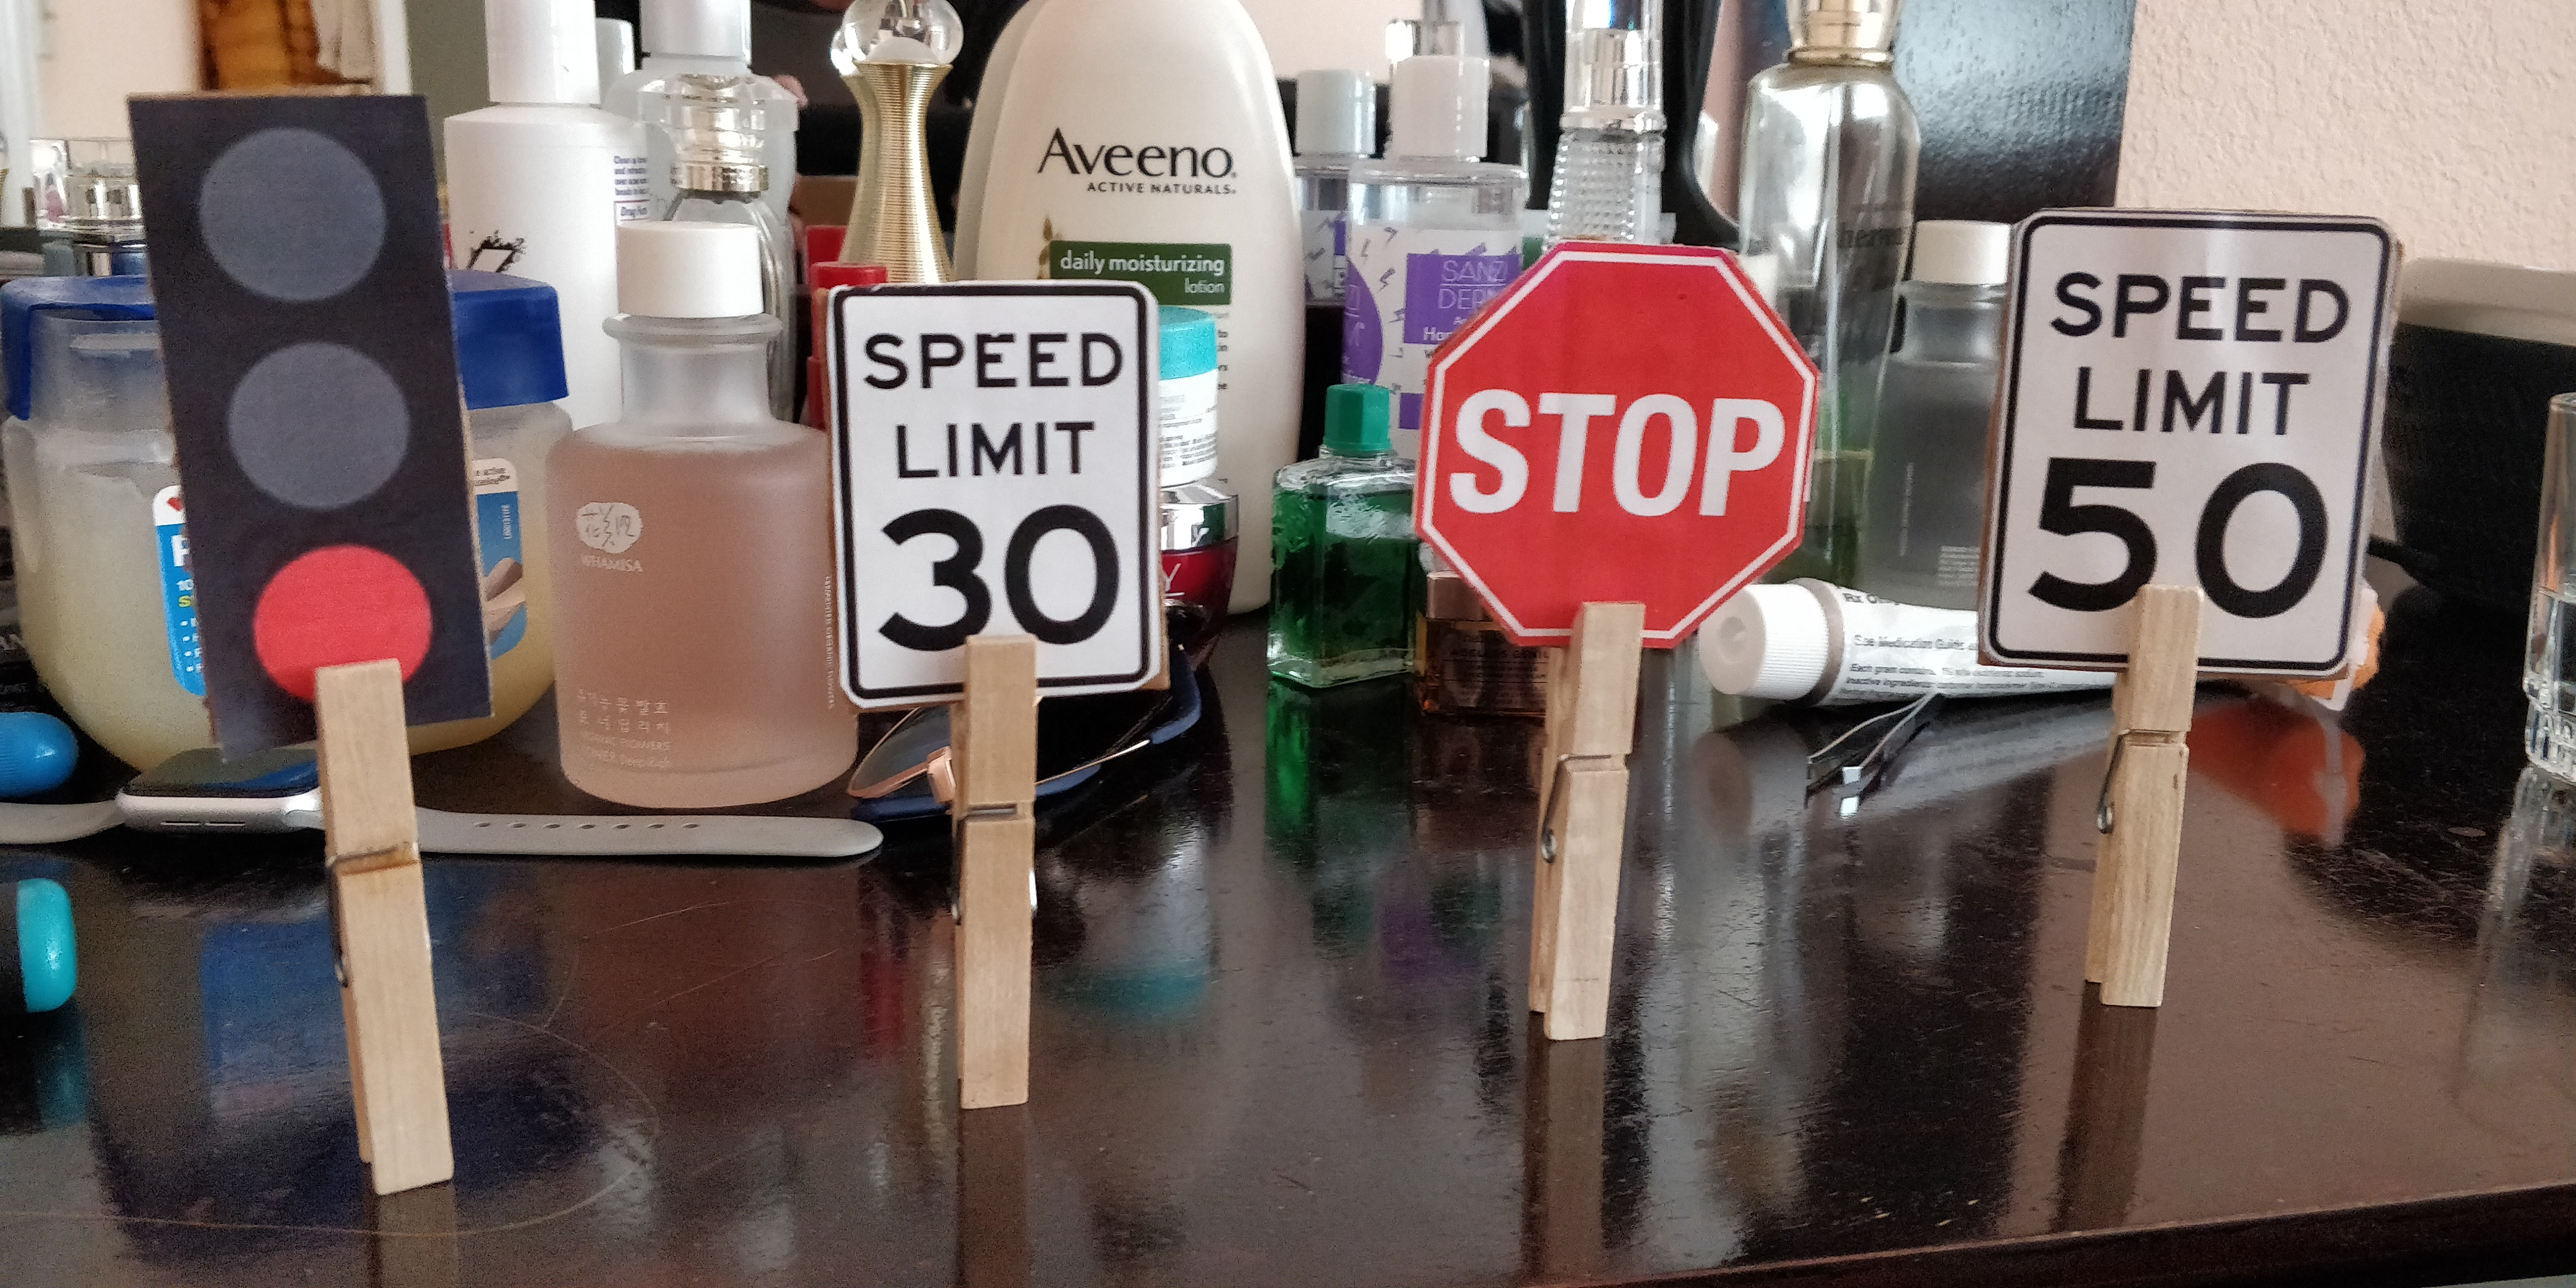Speed Limit 30: (823, 284, 1163, 700)
Speed Limit 50: (1973, 207, 2394, 687)
Stop Sign: (1405, 241, 1815, 644)
red light: (128, 92, 493, 749)
